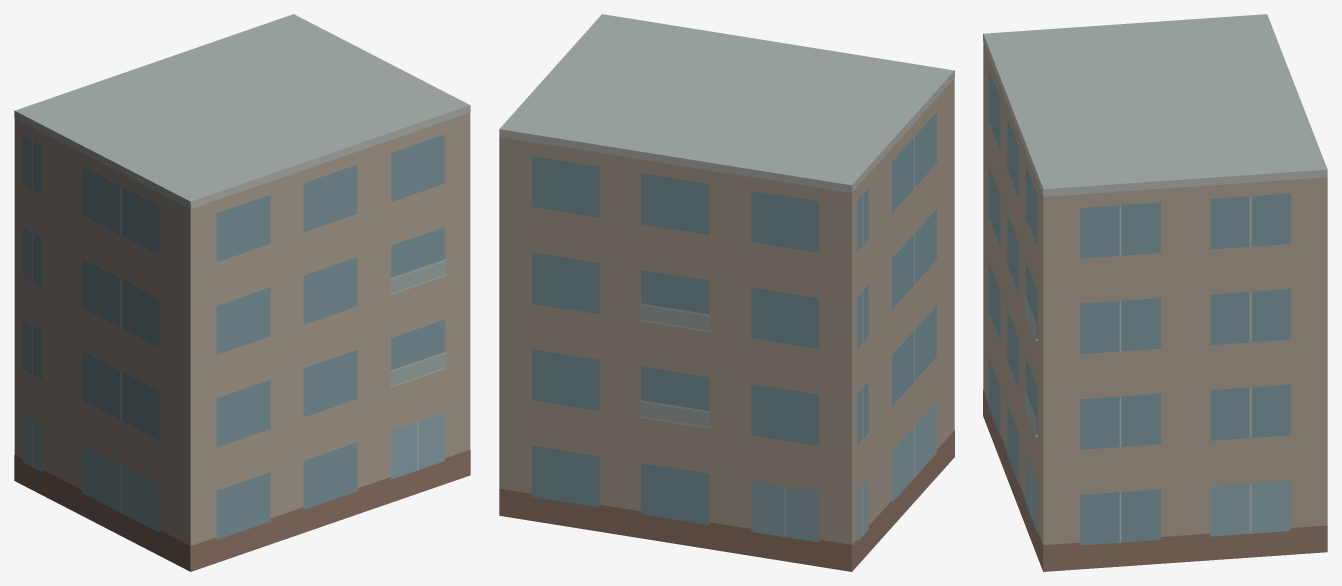
Rendered from residential-708b6736-19a4-4341-a03d-a1a4204bb87d.glb.
3 views of the same model, side by side, from view 1: azimuth 30°, elevation 25°; view 2: azimuth 150°, elevation 25°; view 3: azimuth 270°, elevation 25° (orthographic). The views are drawn at different scales.
Visible parts, largest first — view 1: residential-708b6736-19a4-4341-a03d-a1a4204bb87d.tmp; view 2: residential-708b6736-19a4-4341-a03d-a1a4204bb87d.tmp; view 3: residential-708b6736-19a4-4341-a03d-a1a4204bb87d.tmp.
Part boxes in pixels (x1,y1,x2,y2): residential-708b6736-19a4-4341-a03d-a1a4204bb87d.tmp: (14,14,470,571); residential-708b6736-19a4-4341-a03d-a1a4204bb87d.tmp: (499,14,954,571); residential-708b6736-19a4-4341-a03d-a1a4204bb87d.tmp: (983,14,1327,571).
Bounding box in the file's own units: 12 × 12.2 × 9.96.
